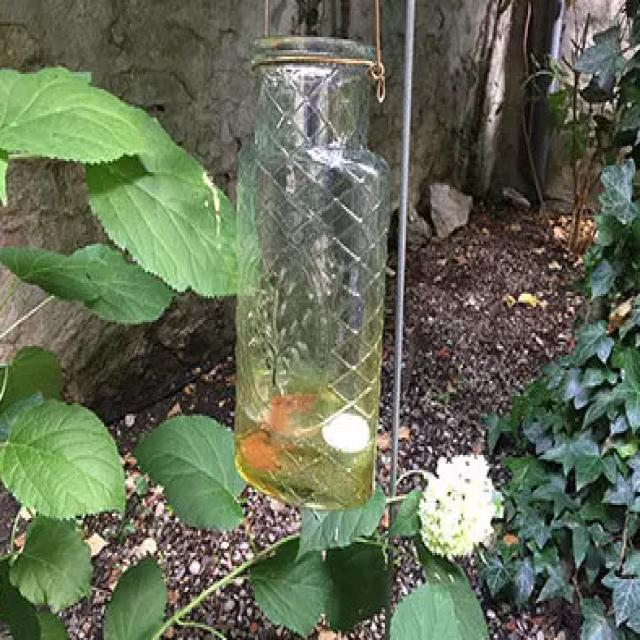Breeding Place: (235, 35, 387, 509)
